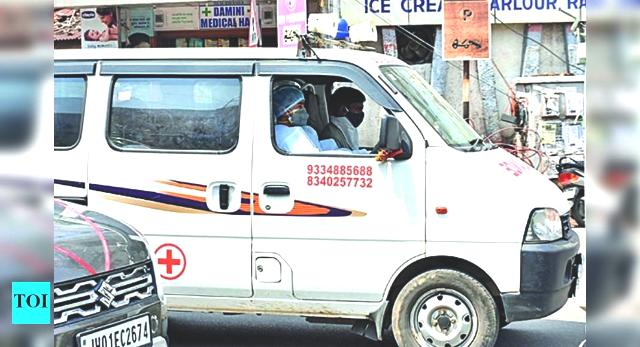ambulance: (54, 49, 581, 346)
